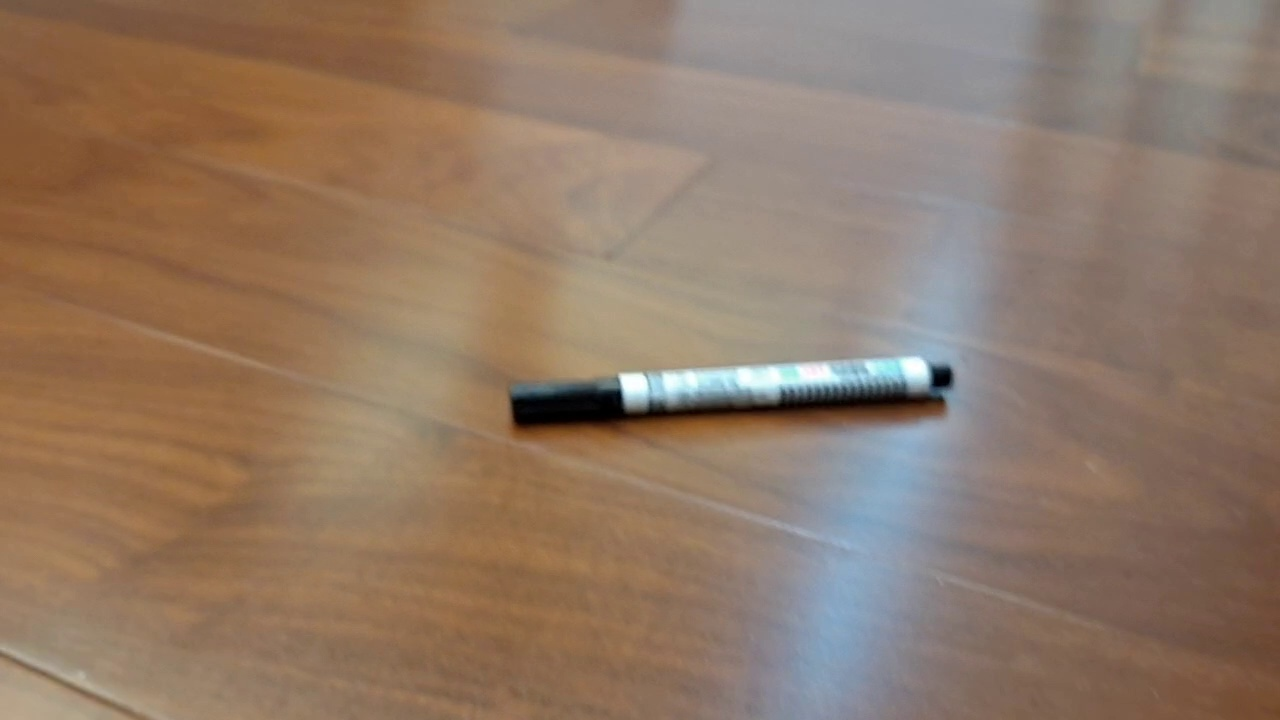pen: (509, 356, 953, 426)
